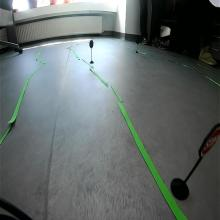stop: (197, 122, 220, 158)
